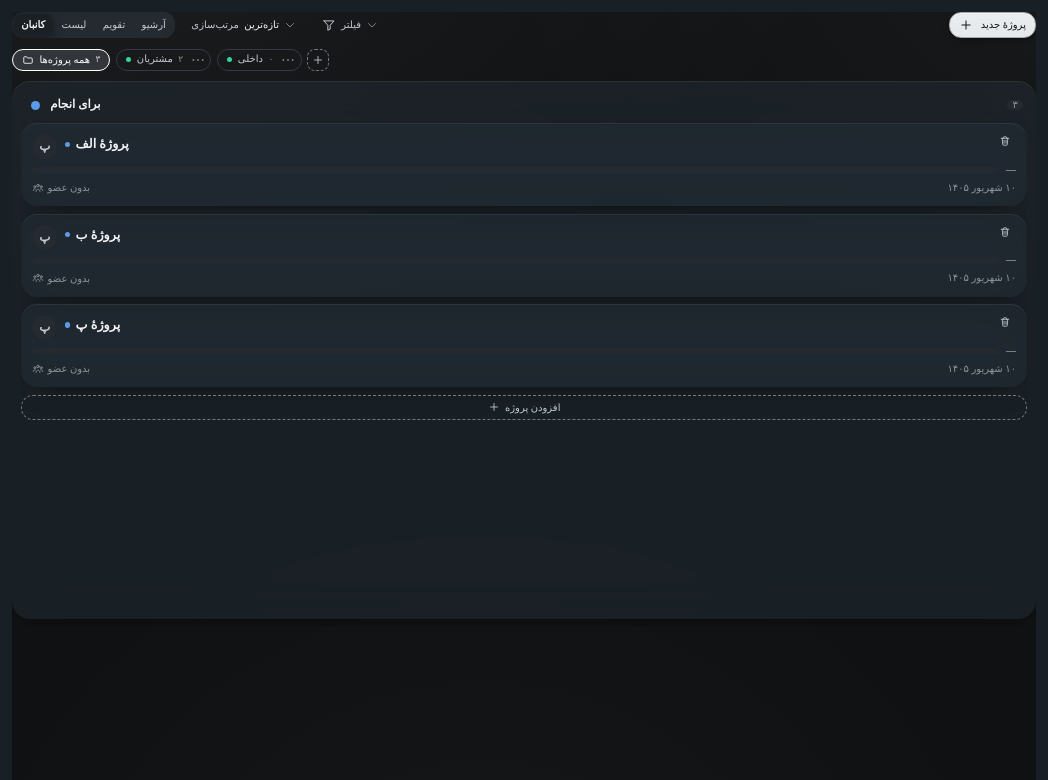
the projects page is the board's two rows (2026-09-16) › draws ROW TWO as the FOLDERS: «همه» with the project count, a chip per folder with how many projects sit in it, a press filtering to it
Expected: the heading "پروژهٔ الف" is shown, [76,134,129,154]
Expected: the 1st text "۳" is shown, [95,55,100,64]
Click the button "مشتریان ۲" at point(155, 60), box [126,53,183,66]
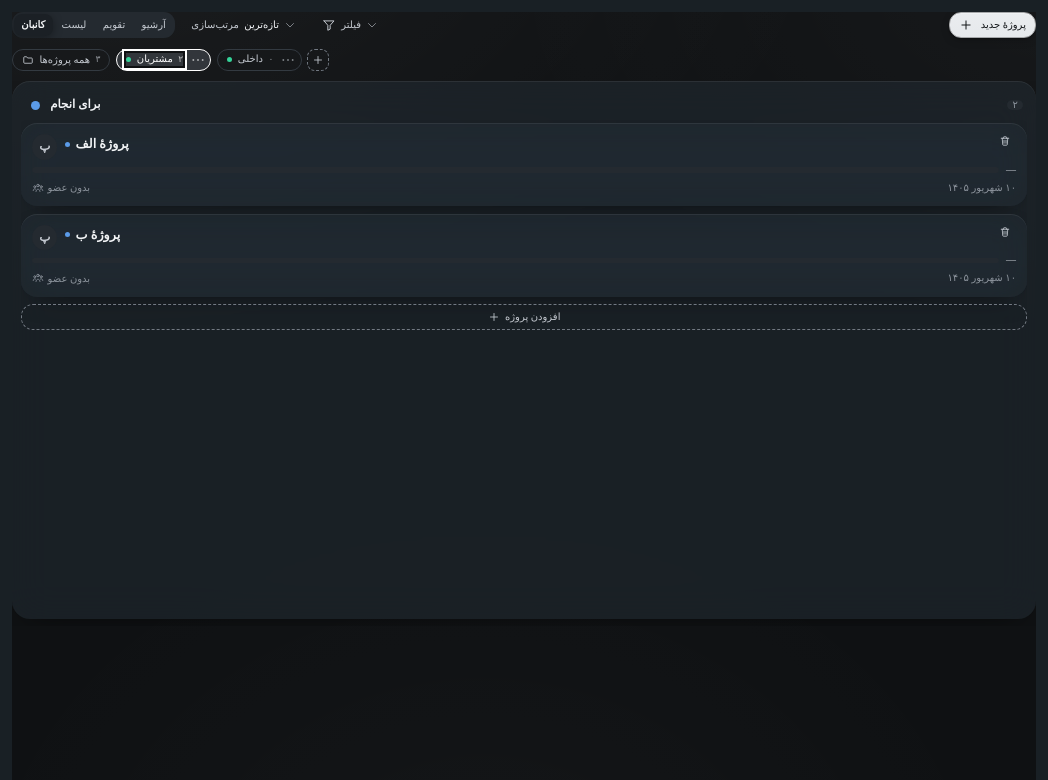
Expected: the heading "پروژهٔ الف" is shown, [76,134,129,154]
Expected: the link "پروژهٔ پ" is gone
Click the button "مشتریان ۲" at point(155, 60), box [126,53,183,66]
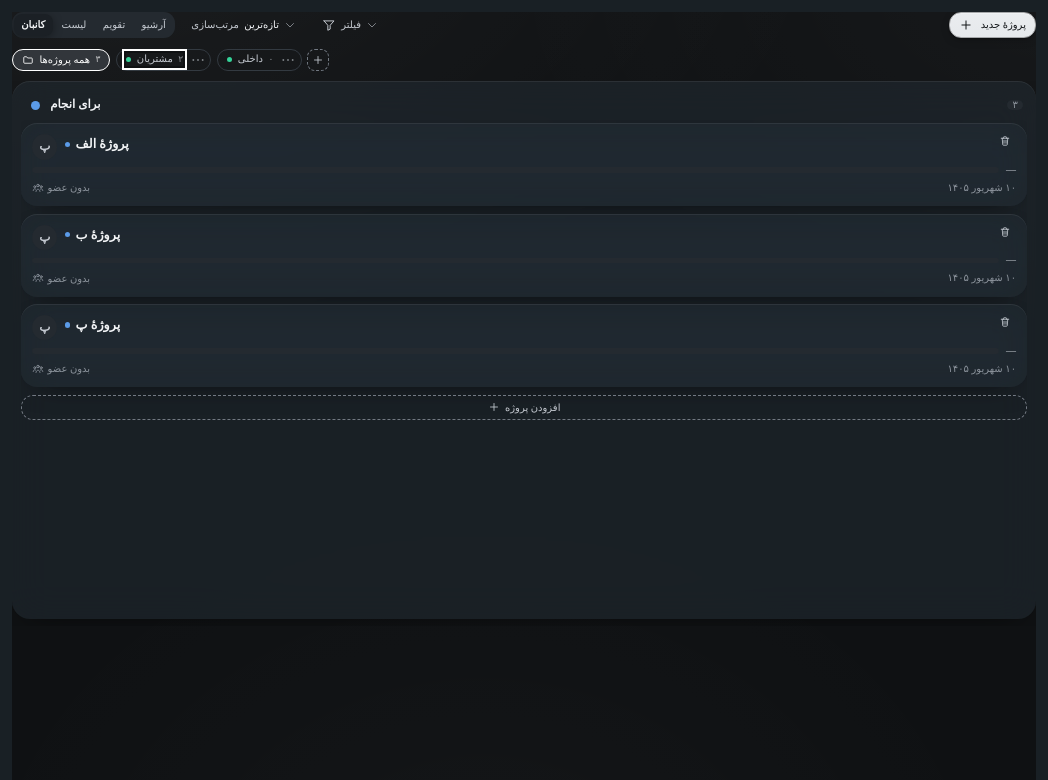
Expected: the heading "پروژهٔ پ" is shown, [76,315,120,335]
